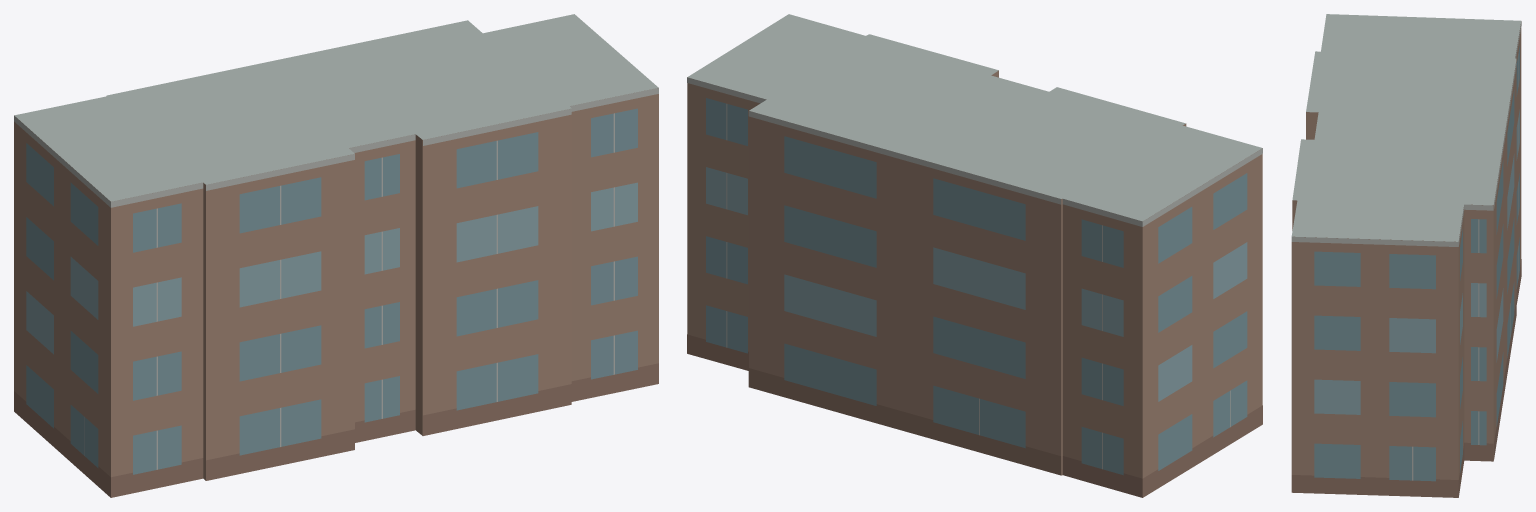
File: survey-upis-32829736.glb
The picture shows the model from 3 angles, left to right: view 1: azimuth 30°, elevation 25°; view 2: azimuth 150°, elevation 25°; view 3: azimuth 270°, elevation 25°; orthographic projection. The views are drawn at different scales.
Visible parts, largest first — view 1: survey-upis-32829736.tmp; view 2: survey-upis-32829736.tmp; view 3: survey-upis-32829736.tmp.
Part boxes in pixels (x1,y1,x2,y2): survey-upis-32829736.tmp: [14, 14, 658, 497]; survey-upis-32829736.tmp: [687, 14, 1262, 497]; survey-upis-32829736.tmp: [1291, 14, 1521, 497].
Size of the model in its own units: 22.72 by 11.9 by 9.69.
